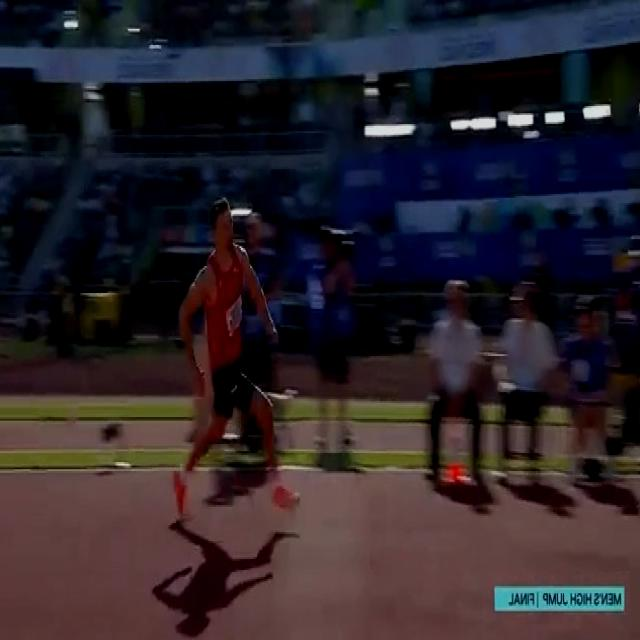run: (169, 195, 302, 521)
